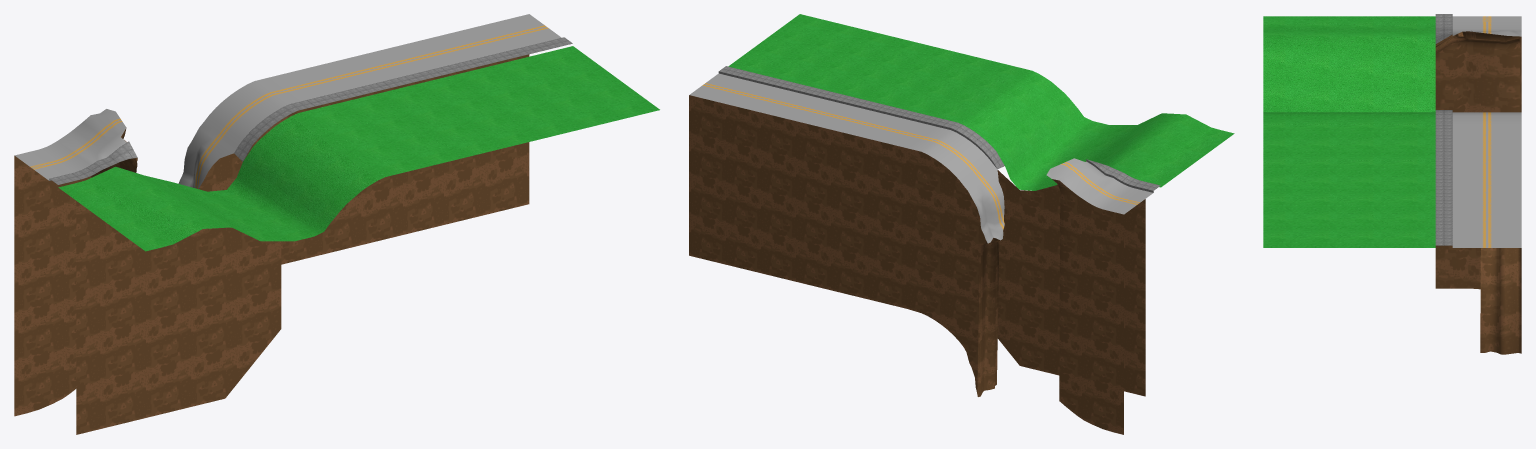
The model's file is Terrain_07_slope_3.FBX.
3 views of the same model, side by side, from view 1: azimuth 30°, elevation 25°; view 2: azimuth 150°, elevation 25°; view 3: azimuth 270°, elevation 25° (orthographic). The views are drawn at different scales.
Parts seen in each view (by area): view 1: Terrain_07_grass, Terrain_05_BGground, Terrain_07_ground, Terrain_07; view 2: Terrain_07_ground, Terrain_07_grass, Terrain_07, Terrain_05_BGground; view 3: Terrain_07_grass, Terrain_07, Terrain_07_ground.
Part boxes in pixels (x1,y1,x2,y2): Terrain_07_grass: [58, 46, 659, 251]; Terrain_05_BGground: [76, 188, 281, 434]; Terrain_07_ground: [14, 54, 529, 416]; Terrain_07: [14, 14, 572, 188]; Terrain_07_ground: [689, 95, 1123, 434]; Terrain_07_grass: [728, 14, 1234, 190]; Terrain_07: [689, 66, 1160, 243]; Terrain_05_BGground: [997, 170, 1145, 396]; Terrain_07_grass: [1263, 16, 1435, 247]; Terrain_07: [1435, 14, 1521, 247]; Terrain_07_ground: [1435, 31, 1521, 354].
Size of the model in its own units: 340 by 181 by 150.
